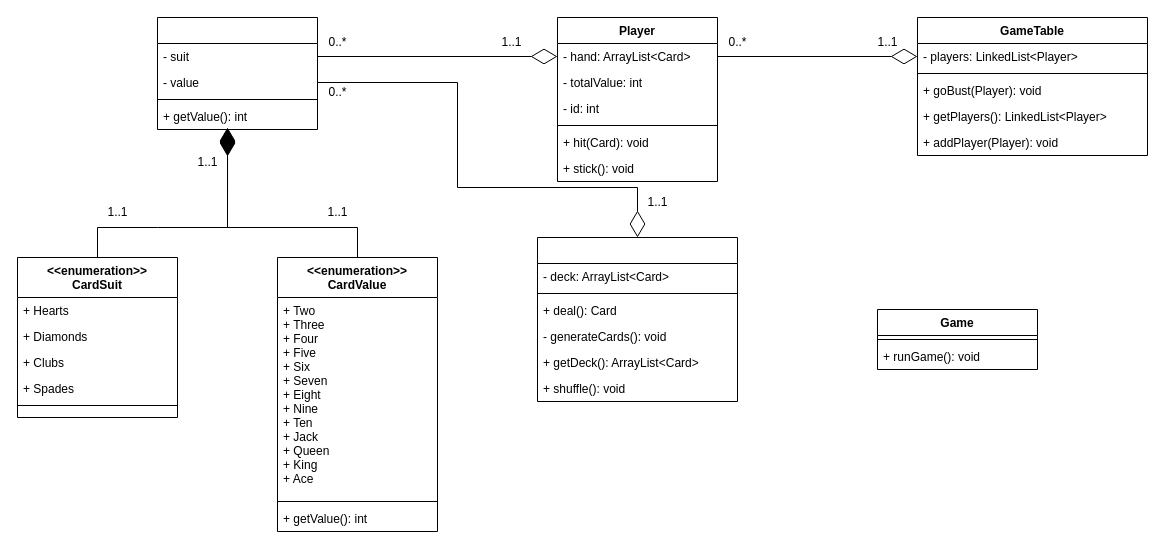
The diagram is 1165 pixels wide and 552 high, and some of its shapes have lost their labels. The shapes that lost their labels are listed below. From the top down, each one's box as (x1, y1, x2, y2) in pixels, then its label:
(156, 16, 318, 130): Card
(536, 236, 738, 402): Dealer
